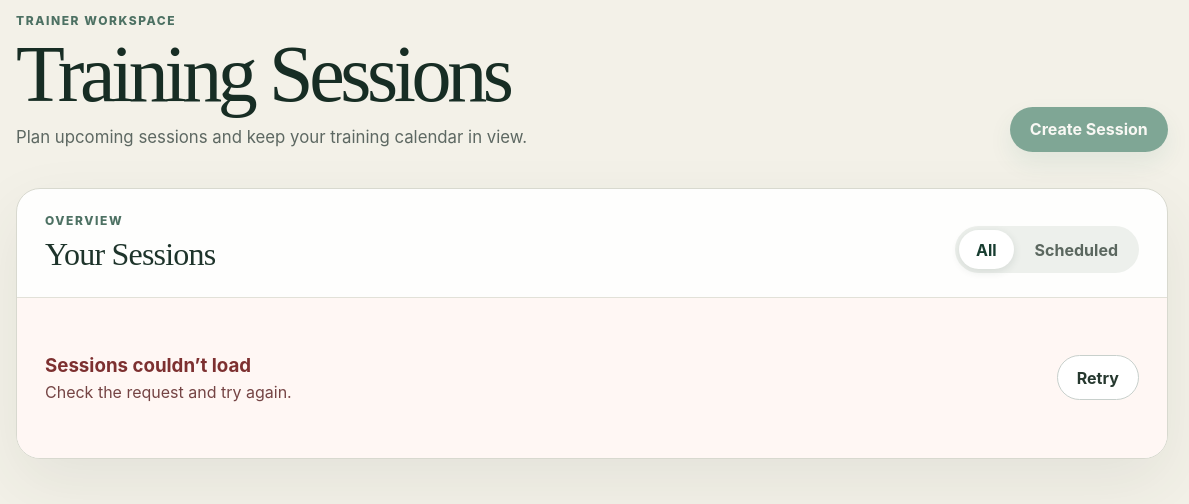
Training Sessions workspace › retries after an initial load error
Expected: the heading "Sessions couldn’t load" is shown, [45, 354, 251, 377]
Click the button "Retry" at (1098, 378), box [1056, 355, 1139, 400]
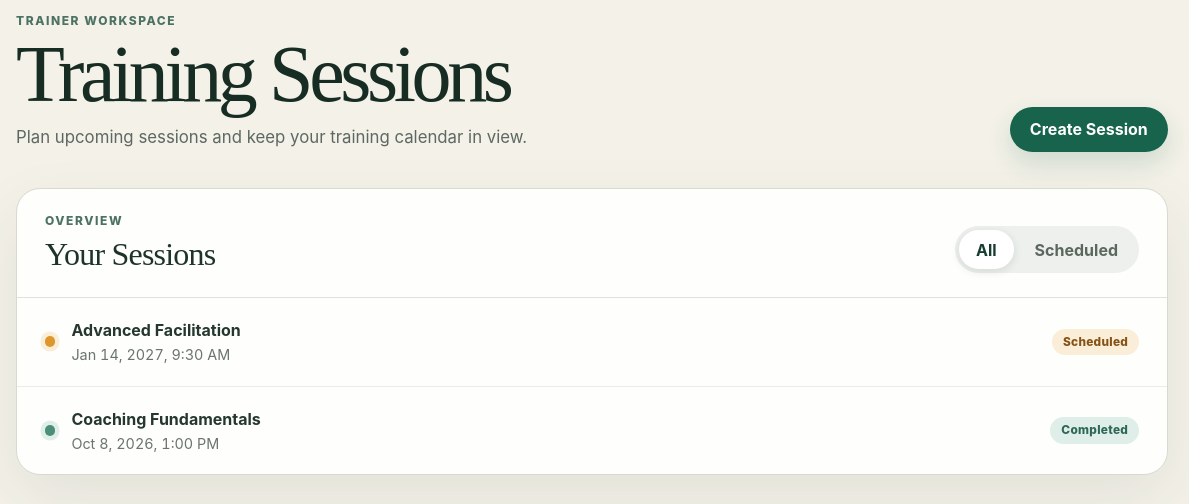
Expected: the heading "Advanced Facilitation" is shown, [71, 320, 241, 342]
